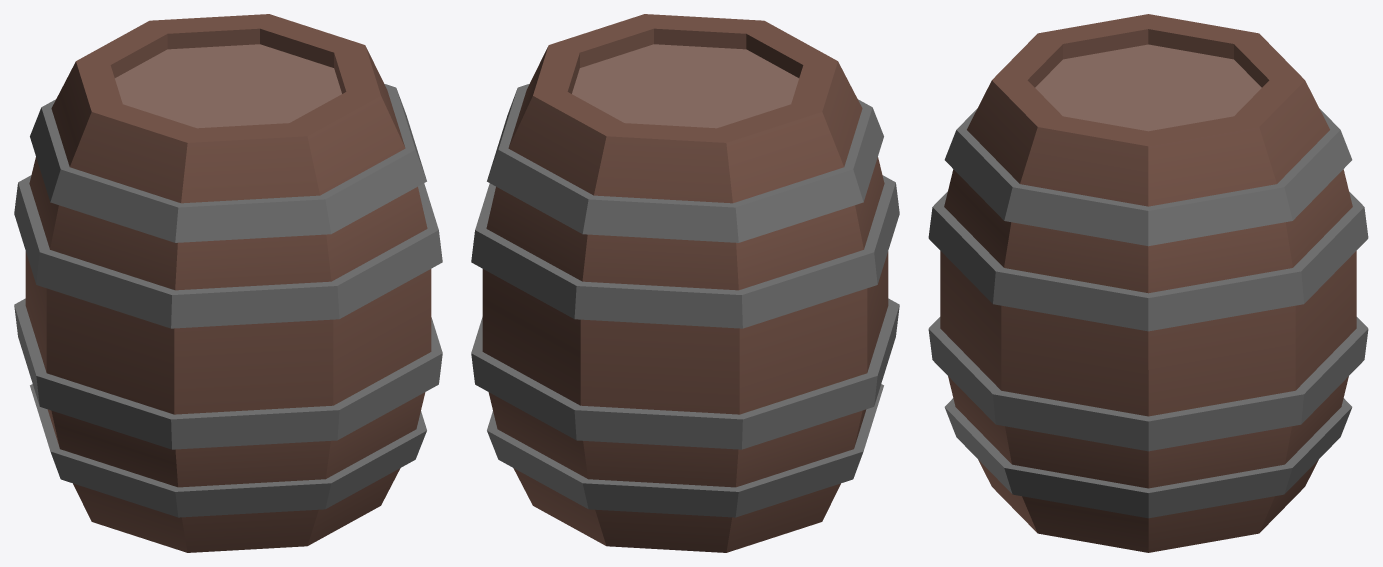
File: prop_053.fbx
3 renders of one model, left to right at view 1: azimuth 30°, elevation 25°; view 2: azimuth 150°, elevation 25°; view 3: azimuth 270°, elevation 25°, orthographic.
Parts seen in each view (by area): view 1: prop.053; view 2: prop.053; view 3: prop.053.
Part boxes in pixels (<box>): prop.053: <box>14,14,442,552</box>; prop.053: <box>471,14,899,552</box>; prop.053: <box>928,14,1368,552</box>.
Size of the model in its own units: 157 by 160 by 157.
Materials: 1 (1 with a texture image).
